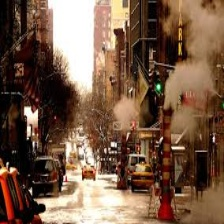smoke: (165, 13, 223, 133)
